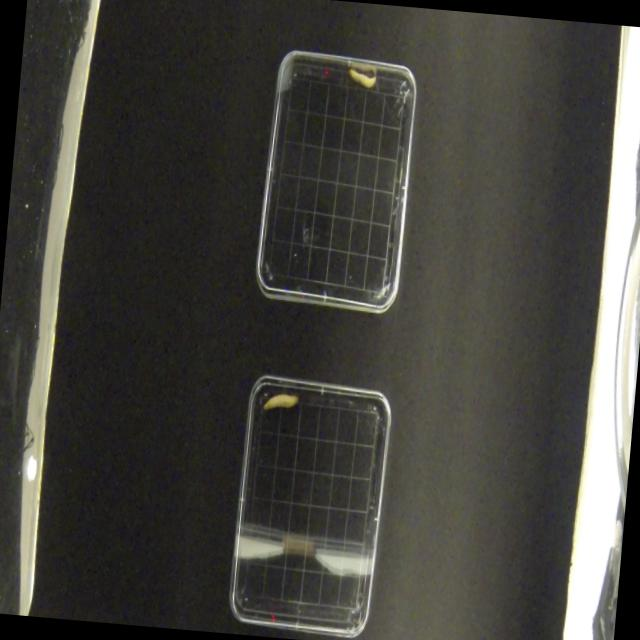larva: (262, 390, 298, 416), (347, 66, 377, 92)
